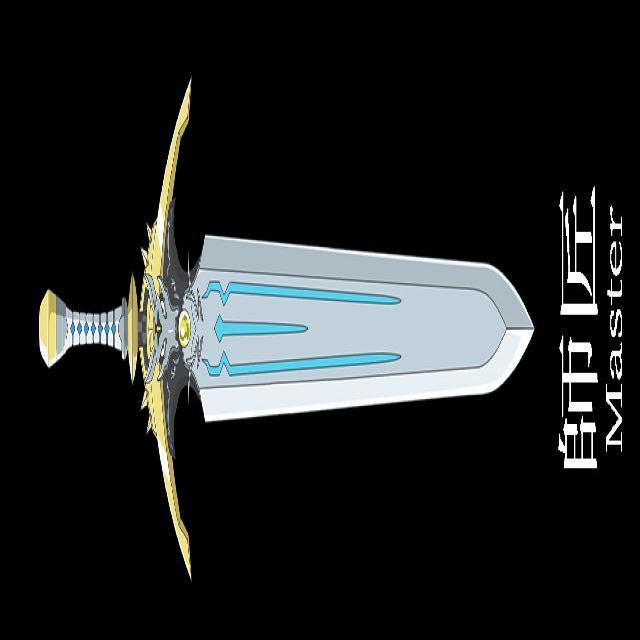sword: (33, 55, 550, 577)
